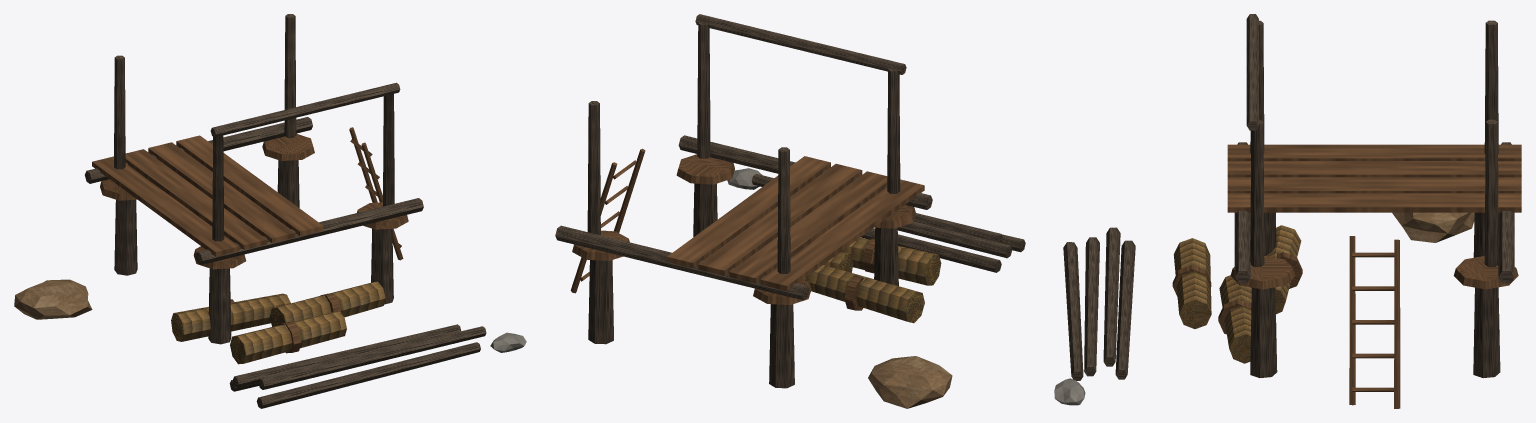
File: cantiere_granaio.glb
3 renders of one model, left to right at view 1: azimuth 30°, elevation 25°; view 2: azimuth 150°, elevation 25°; view 3: azimuth 270°, elevation 25°, orthographic. The views are drawn at different scales.
Visible parts, largest first — view 1: cantiere_granaio; view 2: cantiere_granaio; view 3: cantiere_granaio.
Boxes of the visible parts, x1,y1,x2,y2 form: cantiere_granaio: [14, 14, 526, 408]; cantiere_granaio: [555, 14, 1025, 408]; cantiere_granaio: [1054, 14, 1521, 408].
Size of the model in its own units: 4.82 by 2.81 by 4.61.
Materials: 5 (5 with a texture image).
